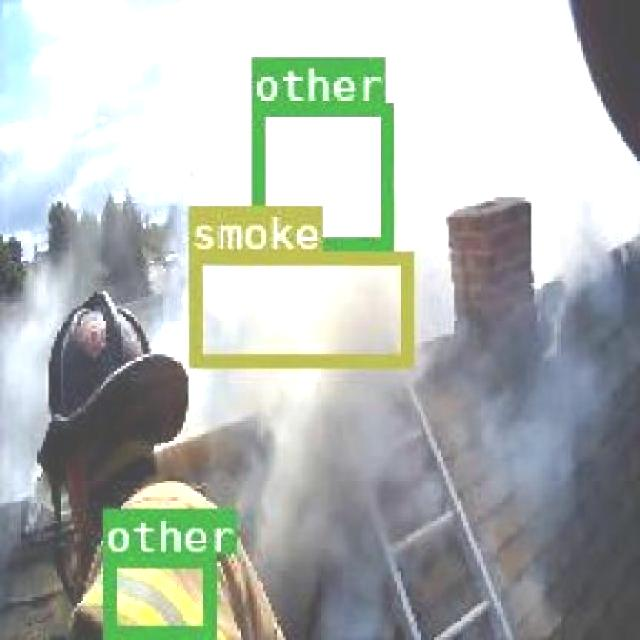smoke: (186, 250, 412, 364)
